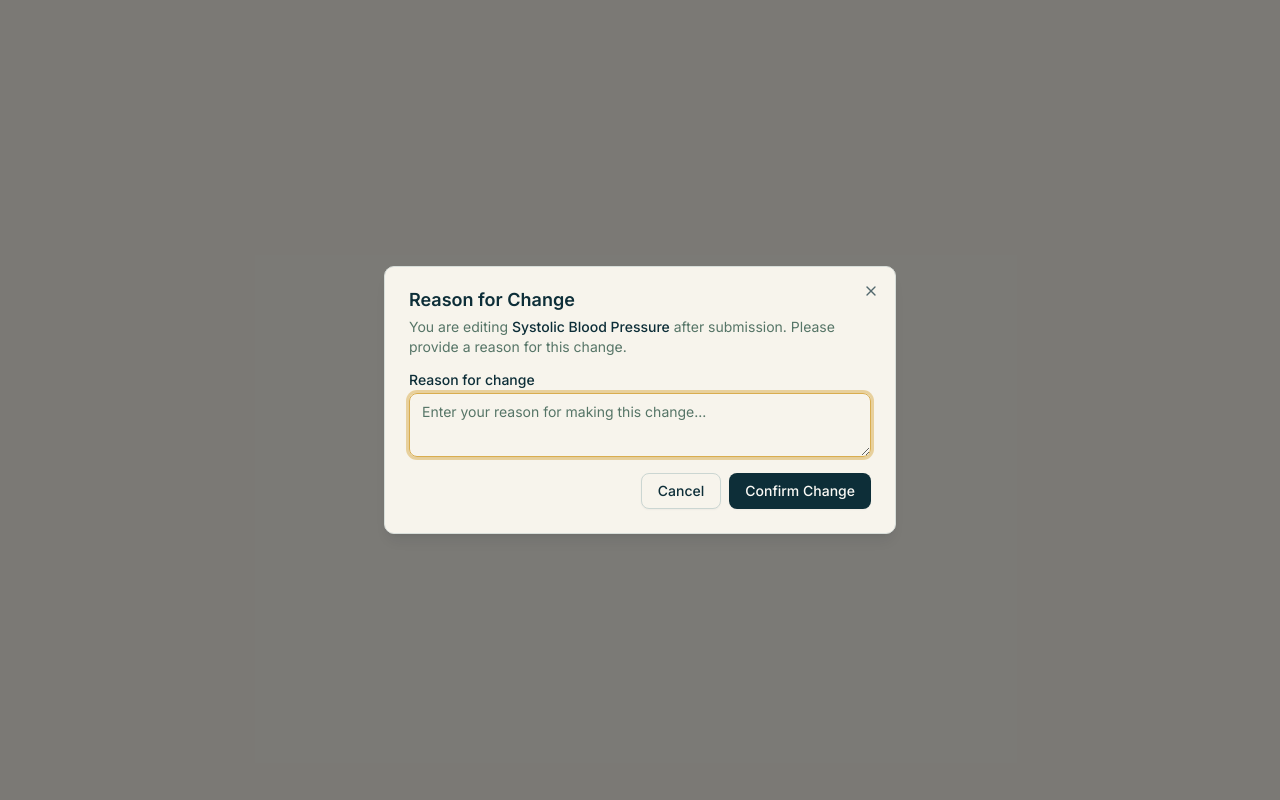
Test: ReasonForChangeDialog › shows an error when reason is too short (less than 3 chars)
This screenshot has width=1280, height=800.
Type "ab" into the text box with placeholder "Enter your reason for making this change..." at x=640, y=425, box [409,393,871,457]
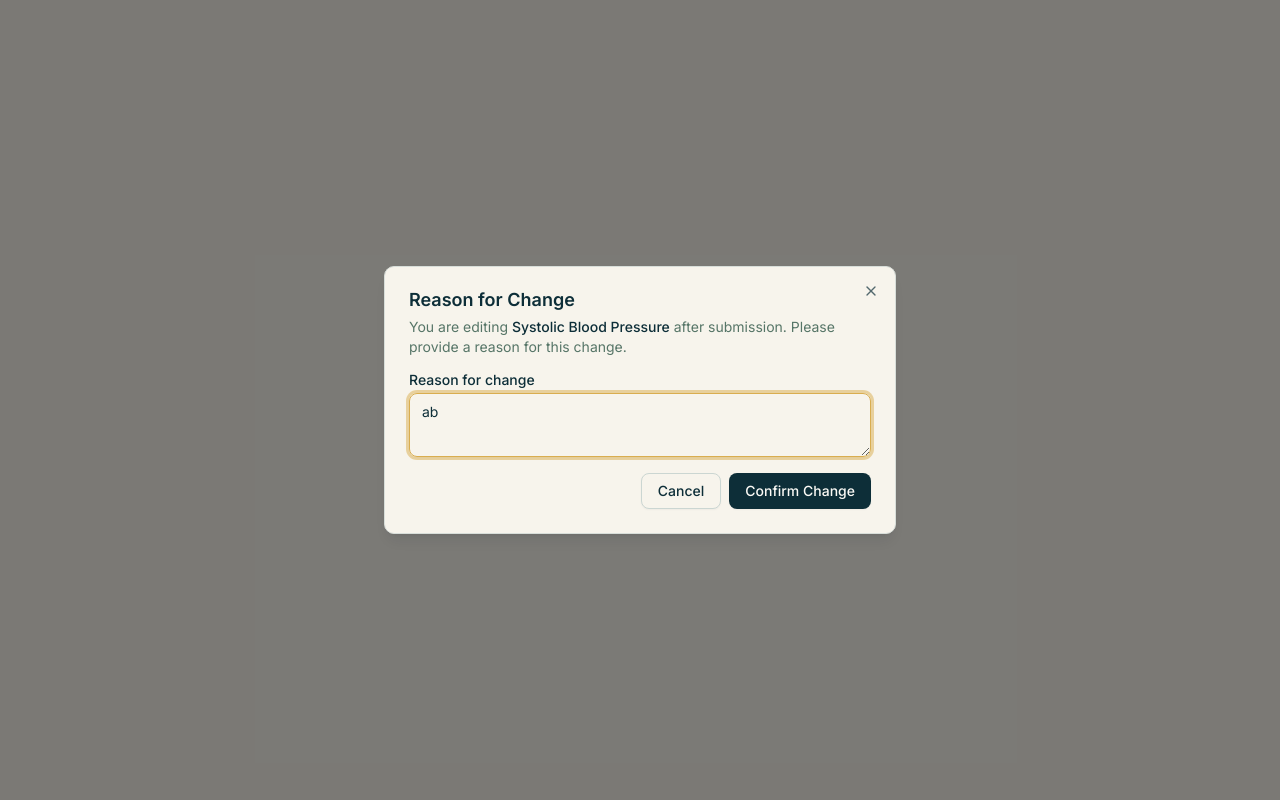
Click the button "Confirm Change" at x=800, y=491, box [729,473,871,509]
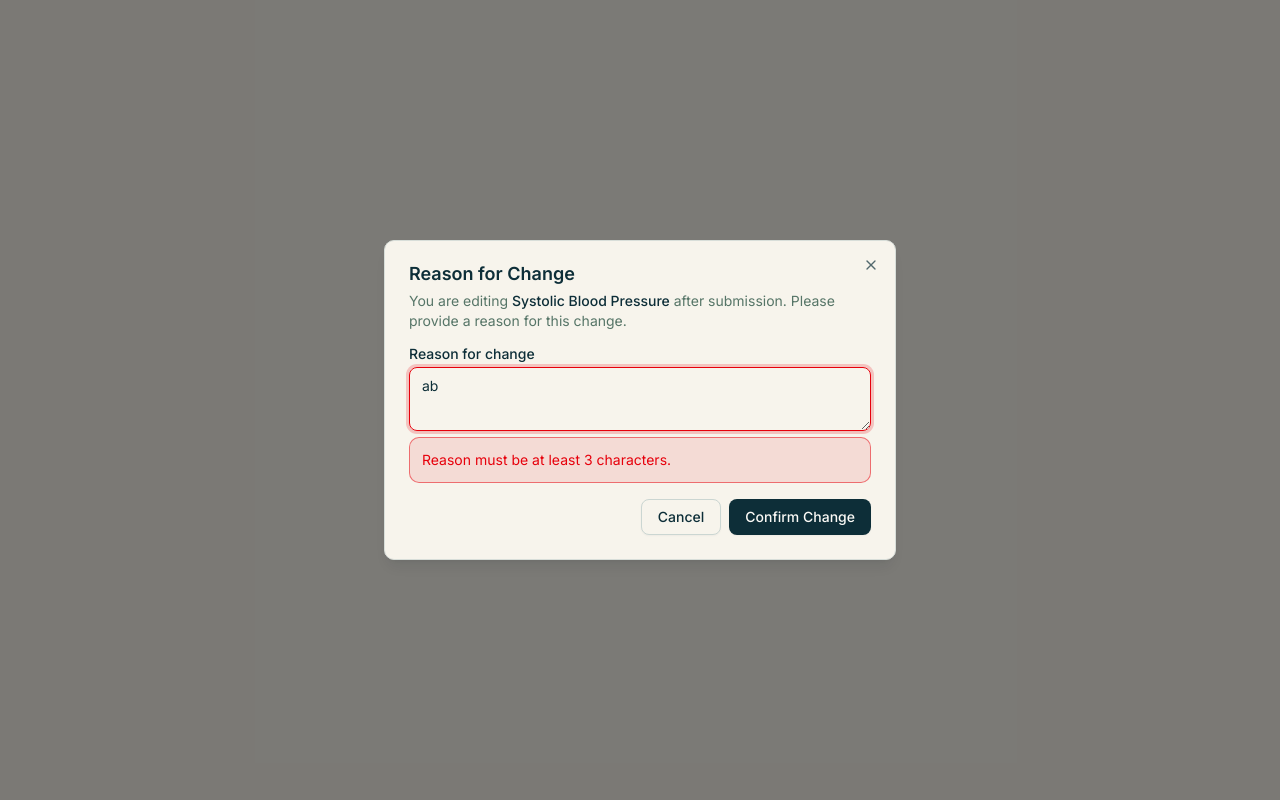
Result: the message reads "Reason must be at least 3 characters." at [422,451,671,468]
